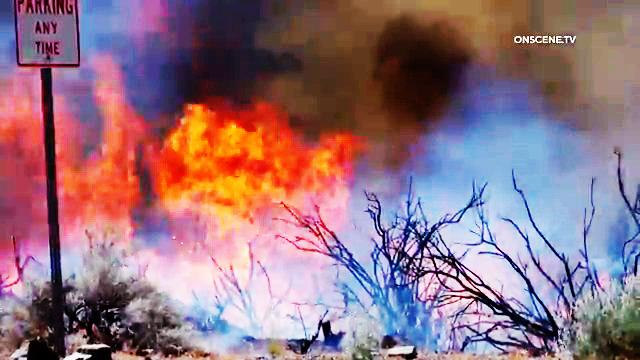fire: (160, 118, 356, 319), (2, 54, 137, 271)
smoke: (166, 6, 488, 87)
